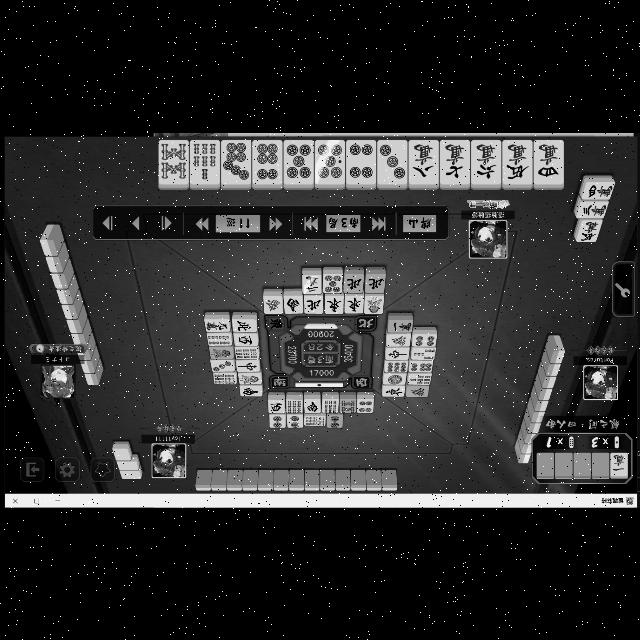1m: (608, 448, 628, 478), (390, 314, 412, 332)
1p: (381, 372, 405, 384)
1s: (364, 292, 384, 314), (208, 345, 234, 361), (236, 372, 264, 386)
2m: (295, 271, 323, 297)
2p: (287, 413, 307, 435), (322, 412, 340, 432), (266, 414, 284, 434)
3m: (574, 201, 616, 221)
3p: (375, 138, 407, 185), (206, 358, 234, 374)
3s: (410, 347, 436, 363)
4m: (533, 132, 561, 192), (572, 172, 620, 202)
4p: (346, 138, 374, 186), (413, 330, 439, 348), (354, 394, 376, 414)
4s: (202, 334, 230, 348)
5m: (504, 140, 532, 186), (576, 222, 600, 246)
5p: (309, 136, 345, 190), (280, 134, 312, 188), (324, 269, 341, 295)
6m: (469, 136, 501, 187)
6p: (252, 138, 280, 182), (408, 360, 434, 376)
6s: (304, 410, 324, 430), (211, 374, 239, 388), (284, 396, 302, 414)
7m: (438, 136, 468, 190)
7p: (222, 138, 250, 188)
7s: (188, 142, 218, 190), (408, 371, 437, 387)
8m: (408, 139, 440, 187)
8s: (152, 137, 186, 190), (336, 393, 356, 412)
9m: (198, 309, 230, 333)
9p: (384, 360, 408, 376)
9s: (321, 394, 337, 416), (233, 347, 260, 359)
chun: (382, 346, 410, 362), (233, 358, 260, 374)
haku: (108, 439, 130, 463), (116, 469, 142, 483), (113, 458, 139, 472)
hatsu: (404, 384, 430, 400), (261, 292, 281, 312), (383, 332, 411, 346)
nan: (283, 285, 303, 317), (305, 394, 321, 416), (238, 384, 262, 398)
pe: (362, 270, 386, 298), (342, 266, 364, 294), (231, 312, 255, 332), (302, 293, 322, 313)
sha: (265, 392, 283, 414), (234, 332, 256, 346)
tou: (344, 292, 364, 314), (326, 292, 342, 316), (382, 385, 401, 399)
